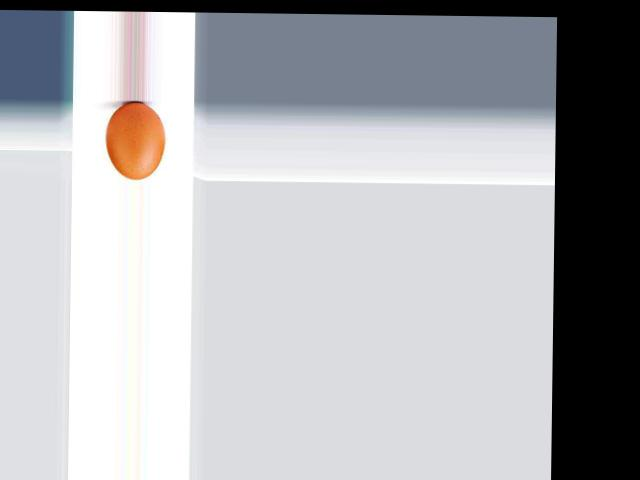egg: (104, 101, 165, 179)
